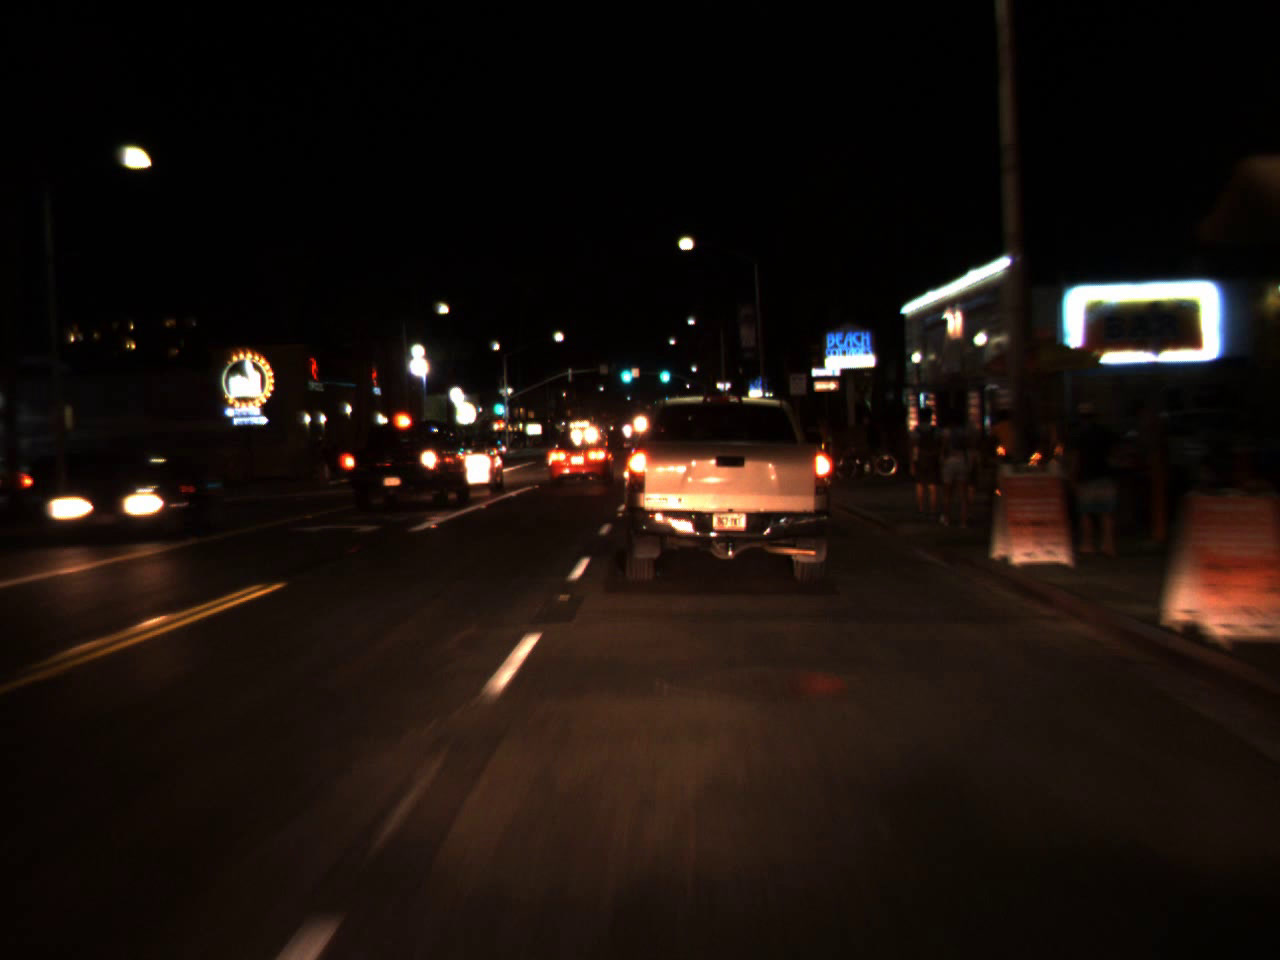go: (617, 354, 635, 387), (489, 389, 507, 419), (655, 357, 671, 387)
